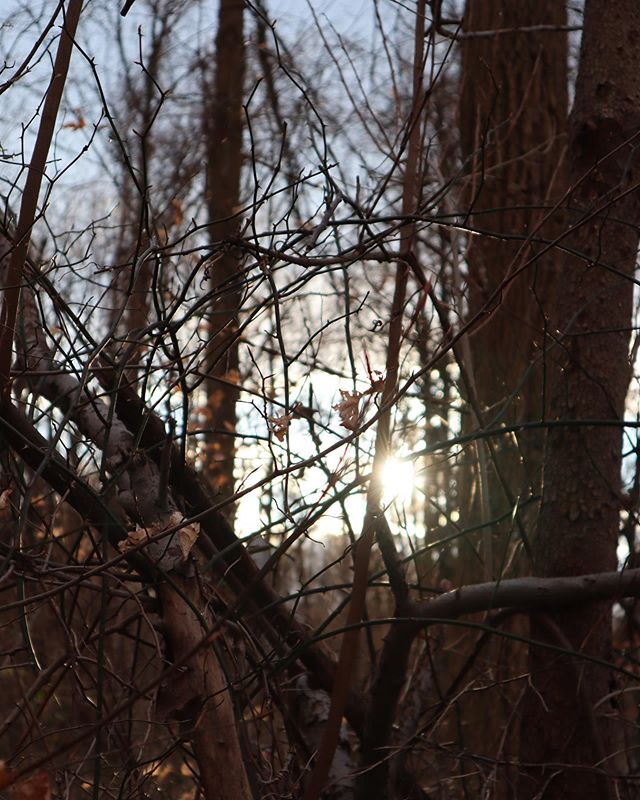tree: (438, 11, 640, 699), (175, 24, 307, 483)
vegetation: (43, 47, 640, 800)
